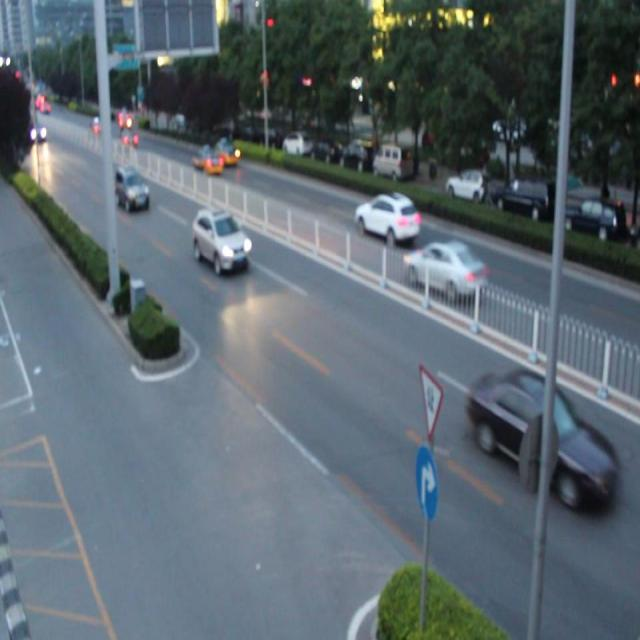car: (470, 370, 606, 505), (404, 240, 487, 298), (192, 210, 249, 271), (355, 192, 419, 242), (112, 166, 149, 212), (190, 144, 224, 175), (209, 140, 240, 169)
